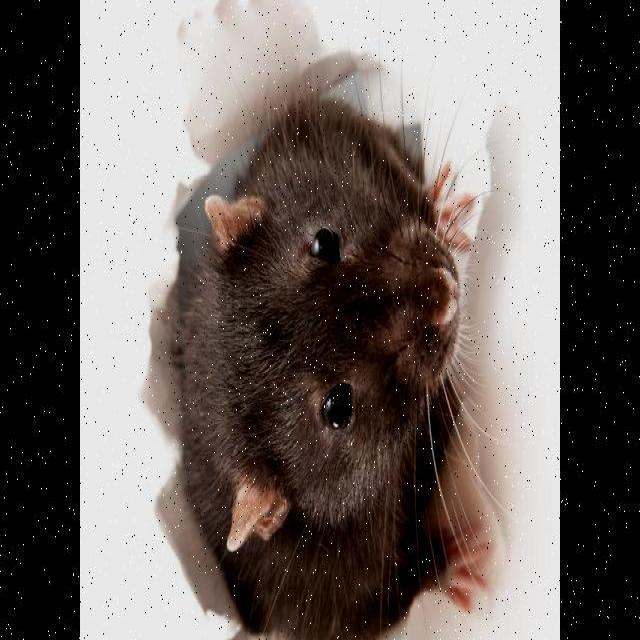rat: (180, 114, 470, 640)
